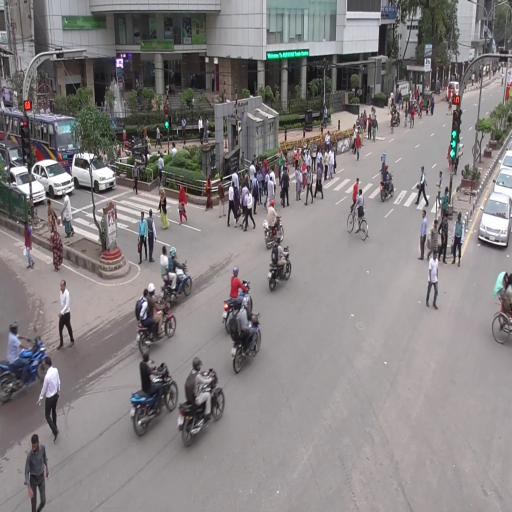bicycle: (346, 206, 371, 243)
car: (478, 189, 512, 256), (30, 158, 77, 201)
motorbike: (129, 370, 181, 443), (178, 383, 227, 453), (1, 341, 43, 402), (230, 321, 263, 381), (267, 252, 293, 298), (379, 163, 395, 204)
suv: (72, 146, 119, 196)
